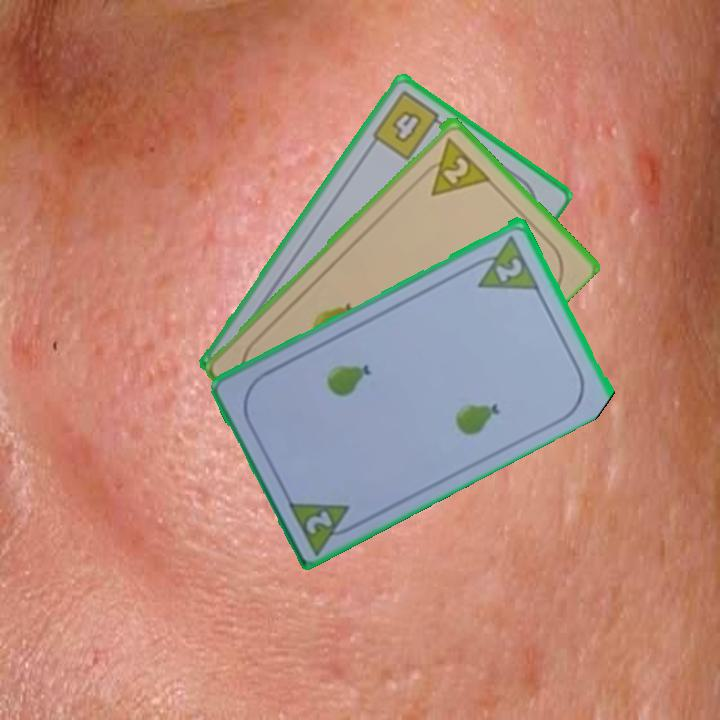2p: (415, 132, 492, 199), (283, 495, 363, 556), (465, 230, 542, 293)
4b: (368, 87, 450, 163)
